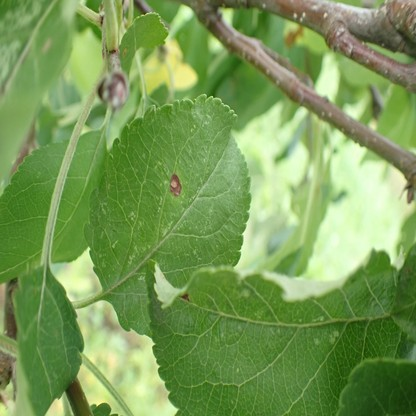frogeye: (170, 173, 182, 196)
